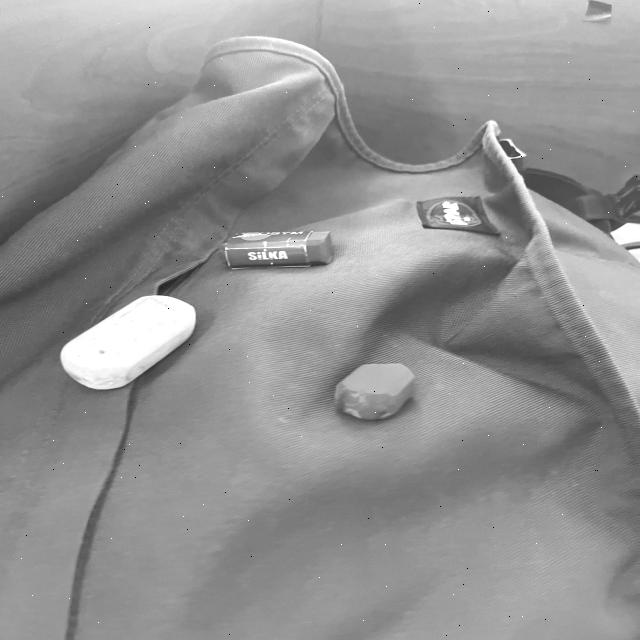eraser: (44, 290, 204, 393), (329, 352, 420, 429), (216, 224, 336, 271)
